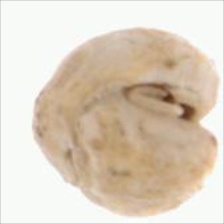L3: (121, 78, 219, 140)
L4: (31, 27, 219, 218)
